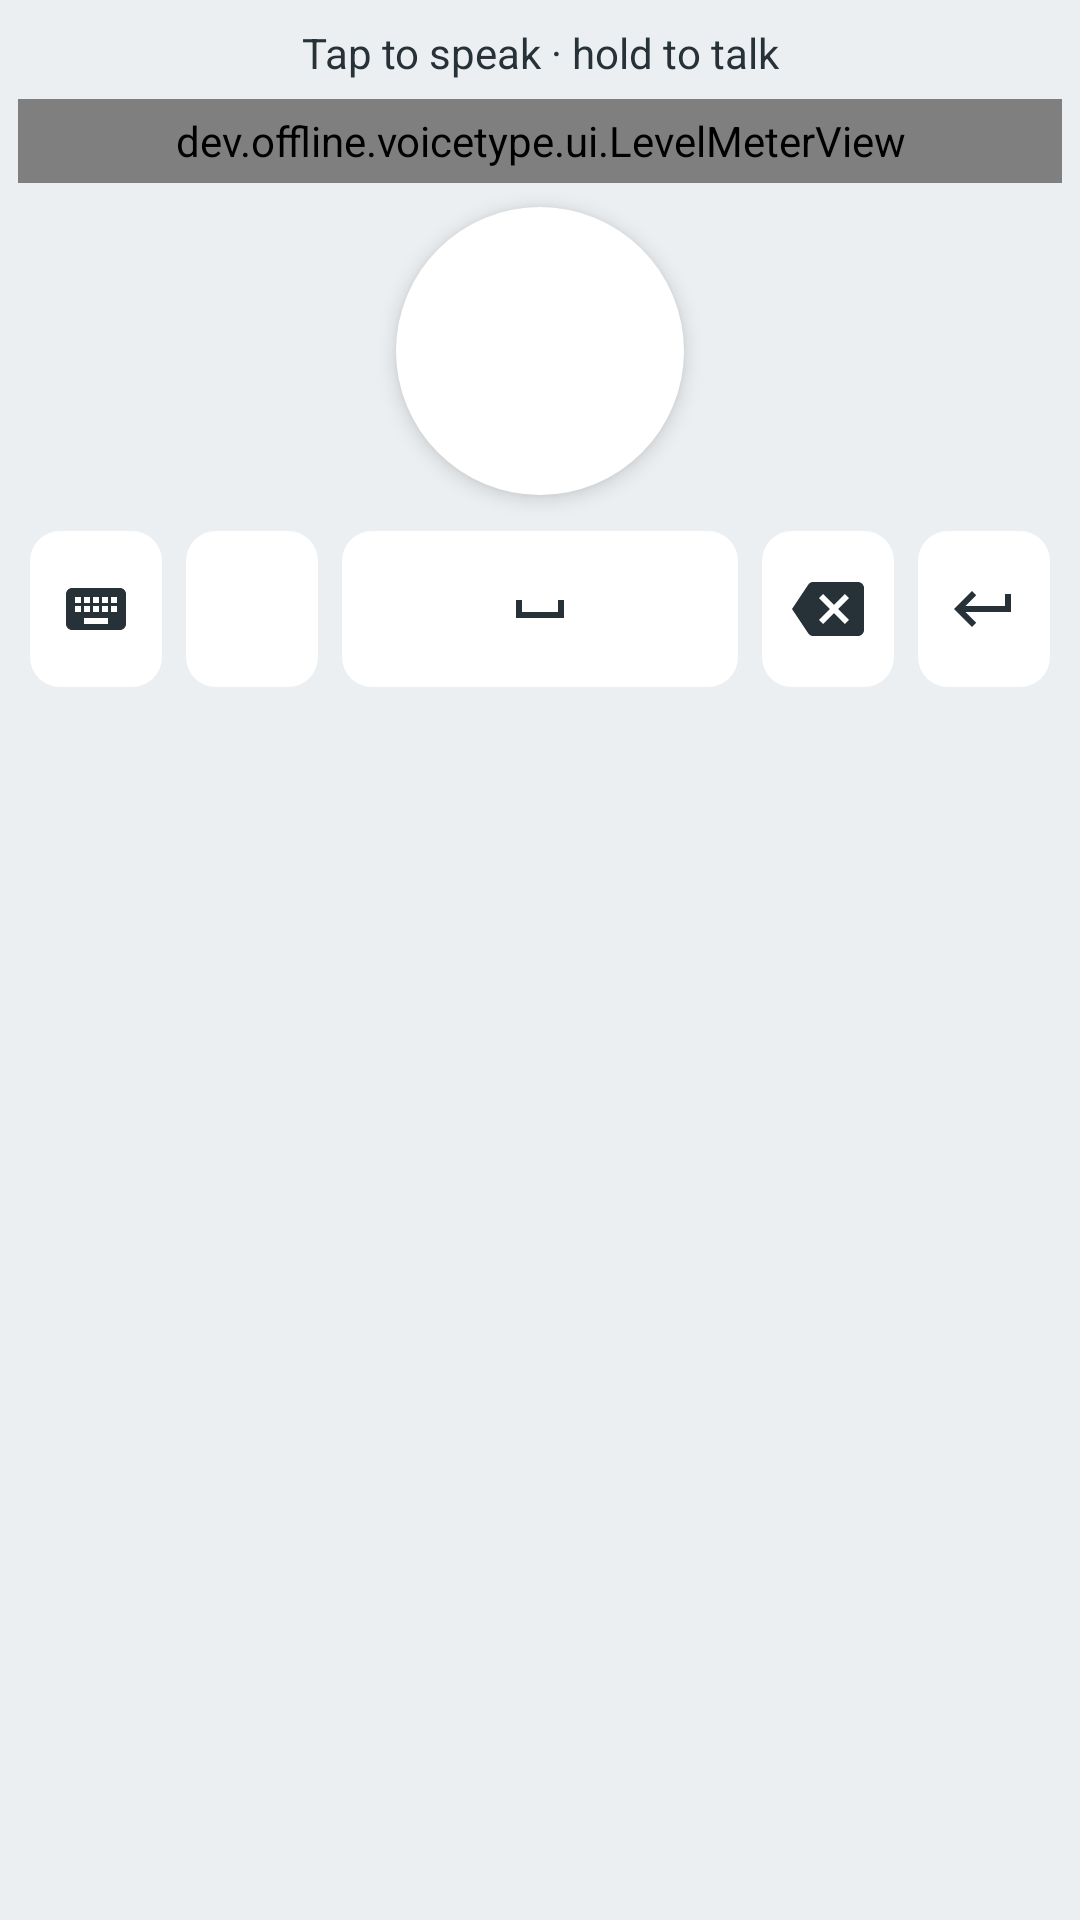

Icon bounding boxes for this 1080*1920 phone screenshot, format (x1, y1, x2, y2):
Backspace: (792, 582, 864, 636)
Enter: (918, 531, 1050, 687)
Space: (516, 600, 564, 618)
Switch keyboard: (66, 588, 126, 630)
